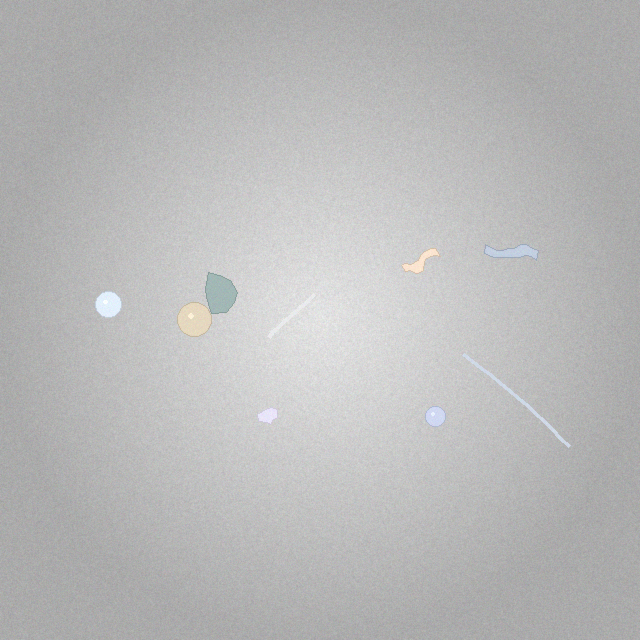fiber: (459, 351, 573, 450), (264, 290, 319, 342)
film: (402, 248, 440, 274), (484, 244, 538, 261)
fragment: (205, 273, 237, 313), (258, 407, 277, 424)
pellet: (178, 302, 212, 336), (96, 292, 121, 317), (425, 406, 445, 426)
